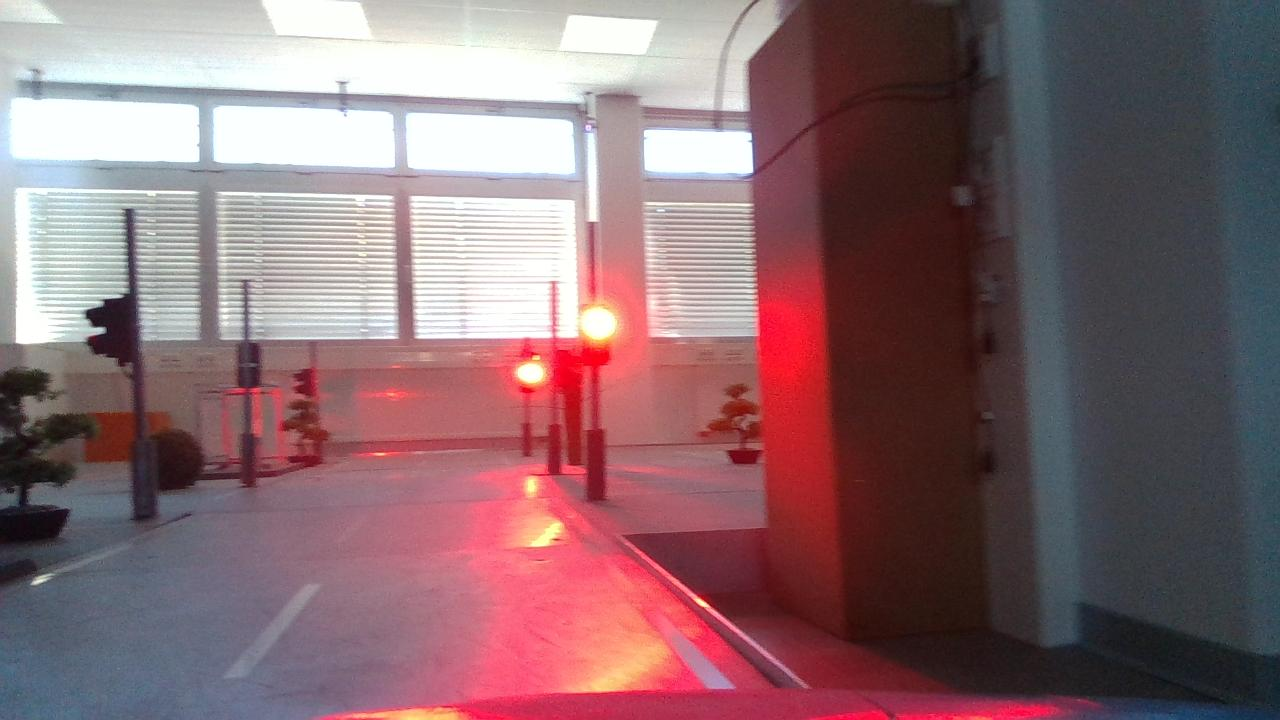traffic_light_red: (568, 297, 625, 378)
